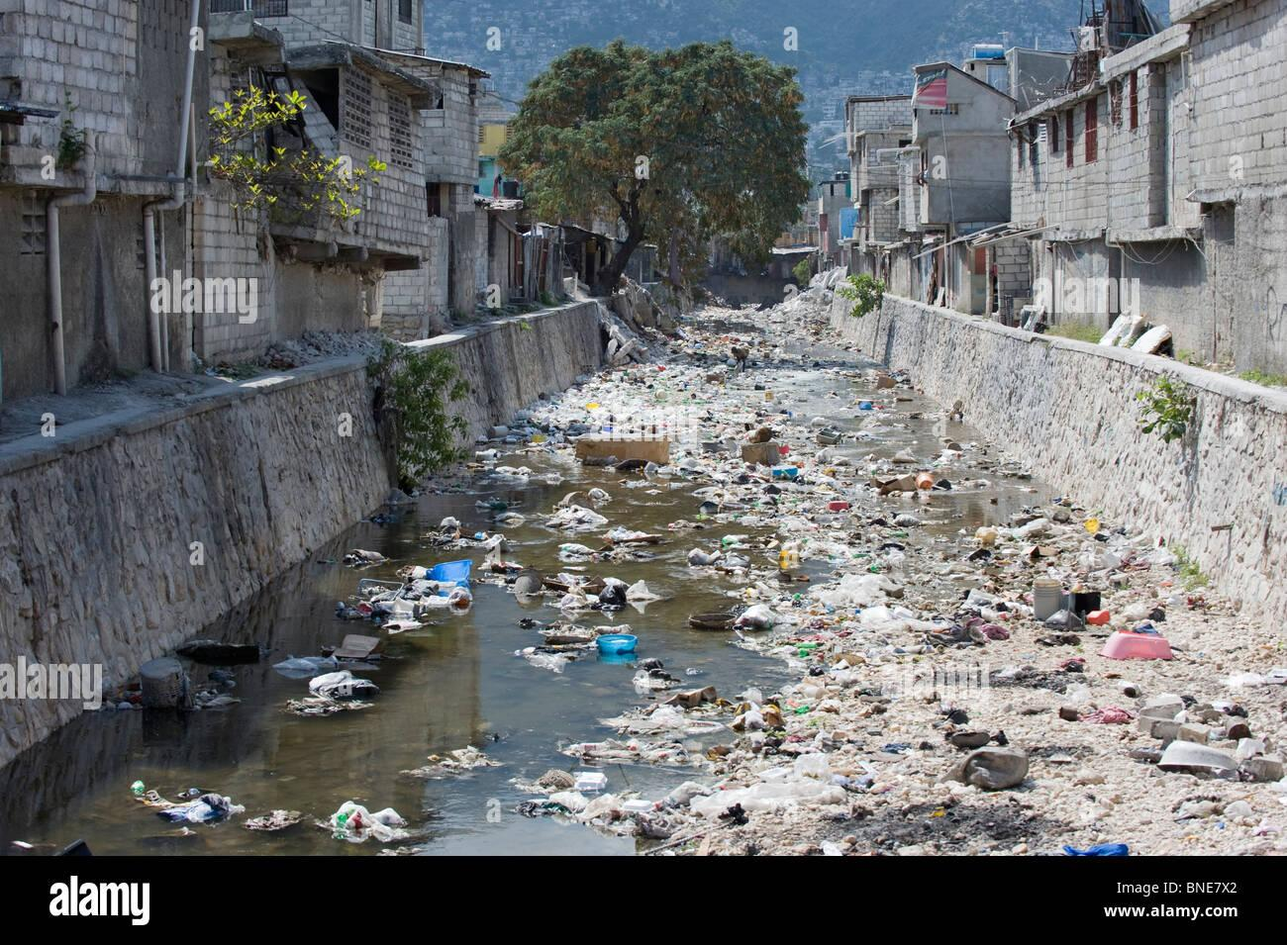garbage: (559, 287, 1223, 852)
